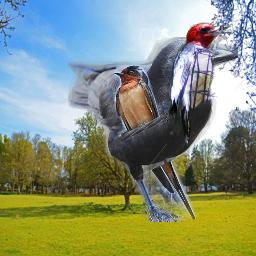Crow: (68, 37, 238, 222)
Swallow: (114, 64, 196, 220)
Woodpecker: (169, 22, 234, 149)
